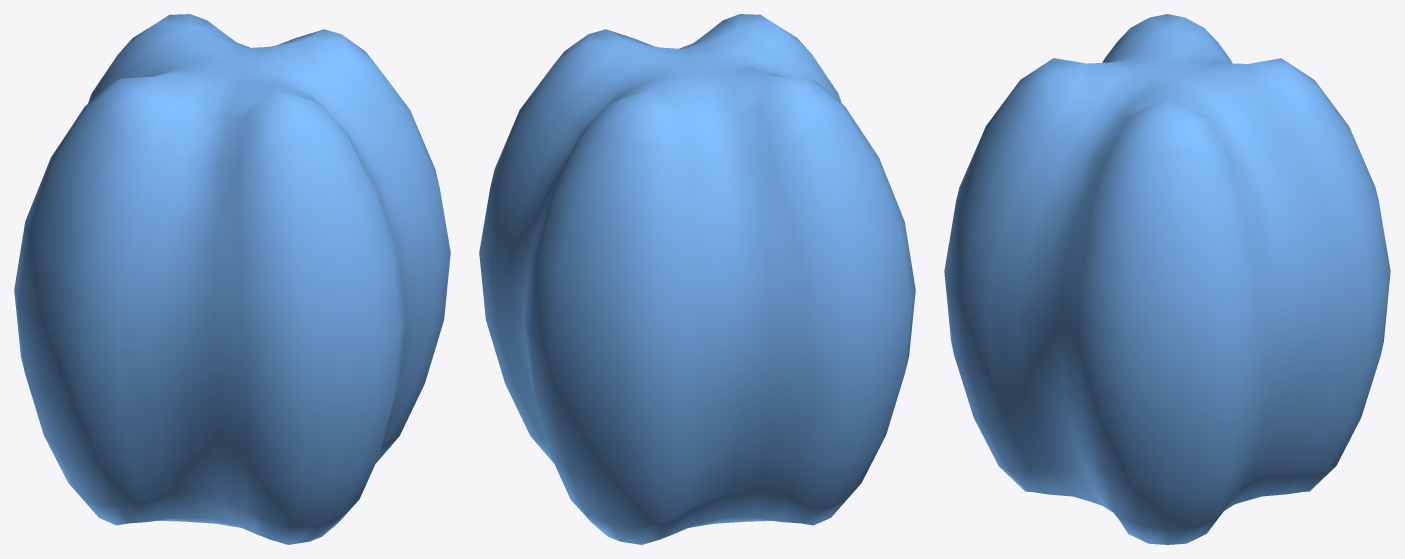
File: Cactus_A_01.fbx
3 renders of one model, left to right at view 1: azimuth 30°, elevation 25°; view 2: azimuth 150°, elevation 25°; view 3: azimuth 270°, elevation 25°, orthographic. The views are drawn at different scales.
Parts seen in each view (by area): view 1: Cactus_A_01_LOD0; view 2: Cactus_A_01_LOD0; view 3: Cactus_A_01_LOD0.
Part boxes in pixels (<box>): Cactus_A_01_LOD0: <box>14,14,450,544</box>; Cactus_A_01_LOD0: <box>479,14,915,544</box>; Cactus_A_01_LOD0: <box>944,14,1390,544</box>.
Size of what is drawn, in the model's own units: 376 by 407 by 376.
